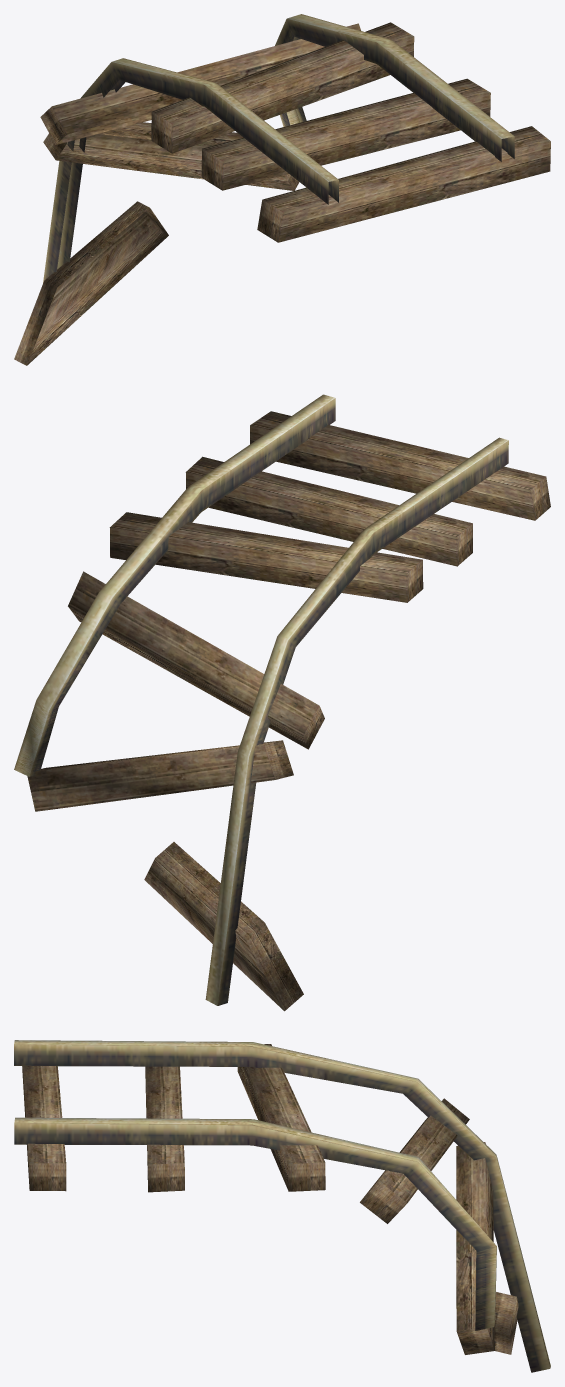
File: S_Build_West071.FBX
3 renders of one model, top to bottom at view 1: azimuth 30°, elevation 25°; view 2: azimuth 150°, elevation 25°; view 3: azimuth 270°, elevation 25°, orthographic. The views are drawn at different scales.
Visible parts, largest first — view 1: S_Build_West071; view 2: S_Build_West071; view 3: S_Build_West071.
Part boxes in pixels (box(x1,y1,x2,y2)): S_Build_West071: box(14, 14, 550, 365); S_Build_West071: box(14, 394, 550, 1011); S_Build_West071: box(14, 1040, 550, 1372).
Bounding box in the file's own units: 262 × 466 × 322.
